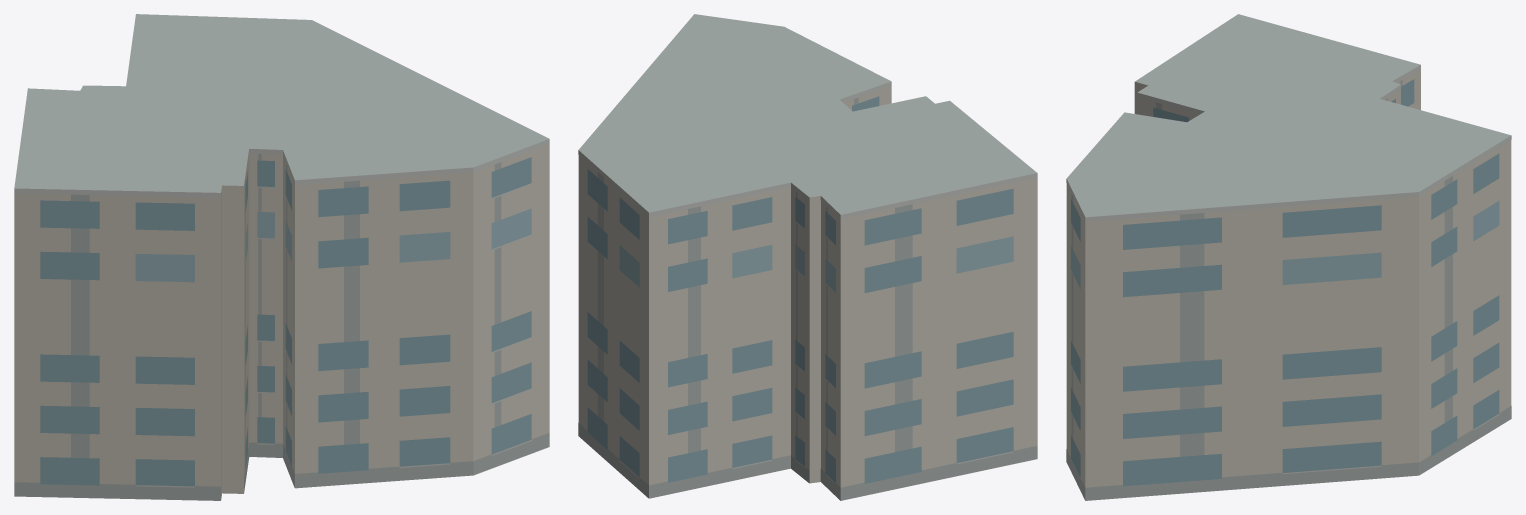
Rendered from survey-upis-33011107.glb.
3 views of the same model, side by side, from view 1: azimuth 30°, elevation 25°; view 2: azimuth 150°, elevation 25°; view 3: azimuth 270°, elevation 25° (orthographic). The views are drawn at different scales.
Parts seen in each view (by area): view 1: survey-upis-33011107.tmp; view 2: survey-upis-33011107.tmp; view 3: survey-upis-33011107.tmp.
Boxes of the visible parts, left/top/right/bottom form: survey-upis-33011107.tmp: left=14, top=14, right=549, bottom=500; survey-upis-33011107.tmp: left=578, top=14, right=1037, bottom=500; survey-upis-33011107.tmp: left=1066, top=14, right=1511, bottom=500.
Bounding box in the file's own units: 23.21 × 15.09 × 21.46.
